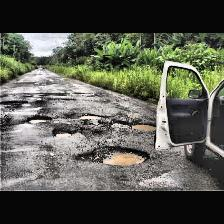pothole: (75, 144, 151, 166), (129, 122, 157, 130), (52, 128, 72, 138), (25, 116, 51, 122), (79, 114, 101, 120), (0, 100, 26, 104), (60, 97, 76, 101)
